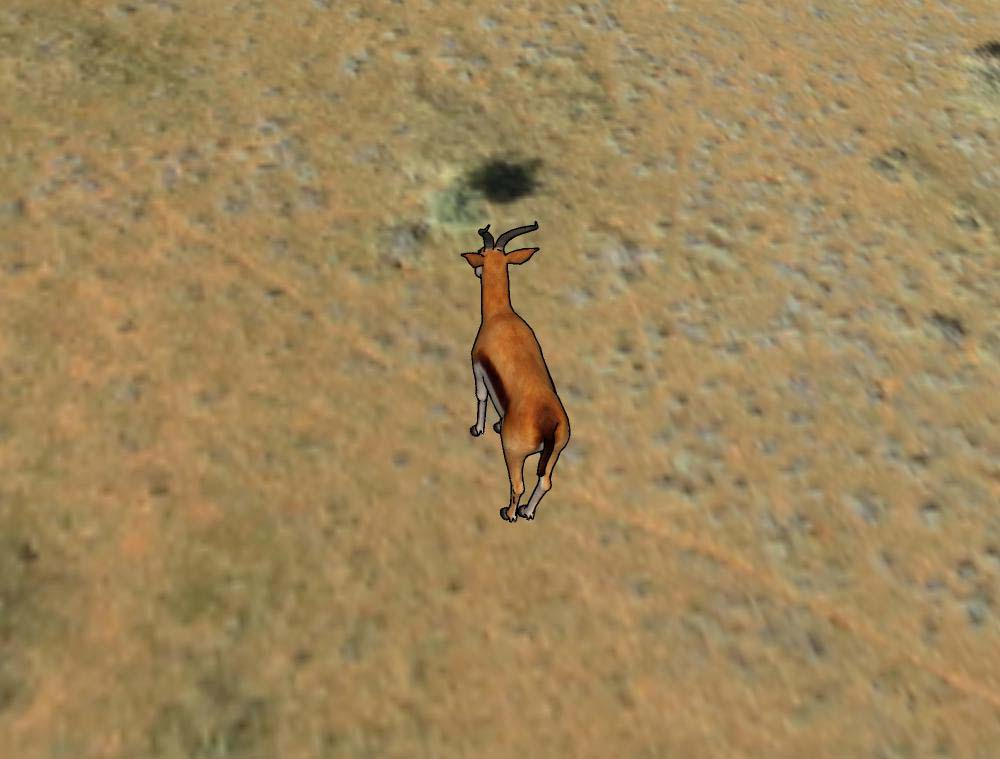springbok: (448, 218, 579, 529)
